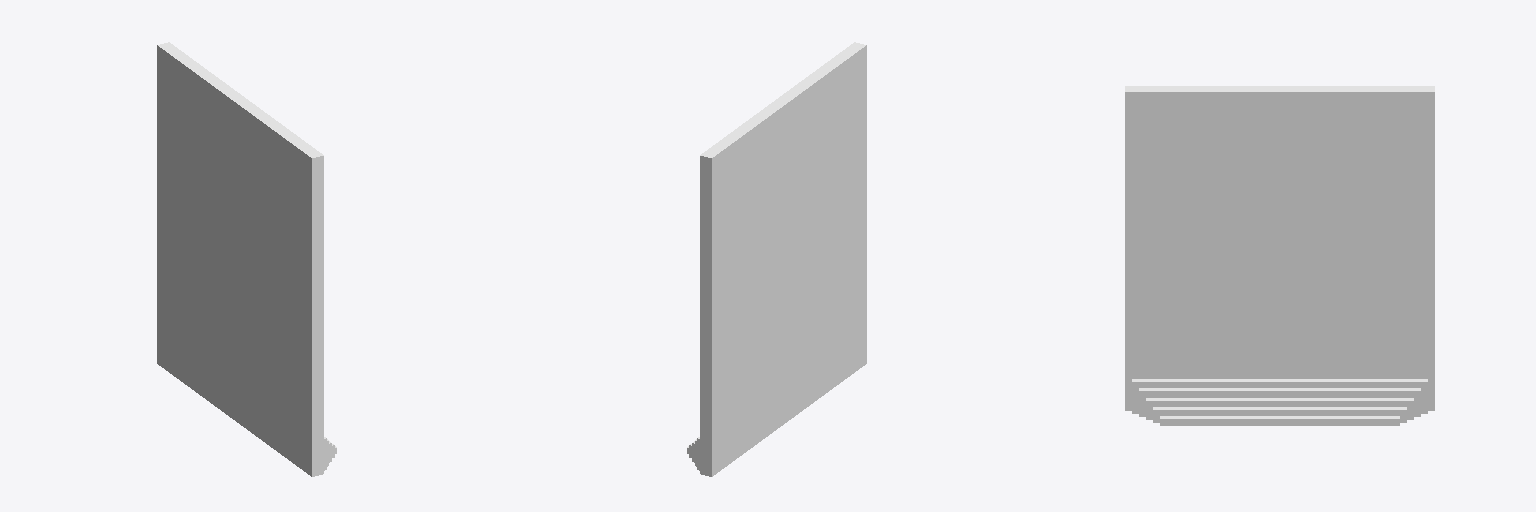
File: outWall.obj
3 renders of one model, left to right at view 1: azimuth 30°, elevation 25°; view 2: azimuth 150°, elevation 25°; view 3: azimuth 270°, elevation 25°, orthographic.
Visible parts, largest first — view 1: object 1; view 2: object 1; view 3: object 1.
Boxes of the visible parts, box(x1,y1,x2,y2) form: object 1: box(157, 42, 336, 476); object 1: box(687, 42, 866, 476); object 1: box(1125, 86, 1434, 425).
Bounding box in the file's own units: 0.7 × 5 × 4.4.